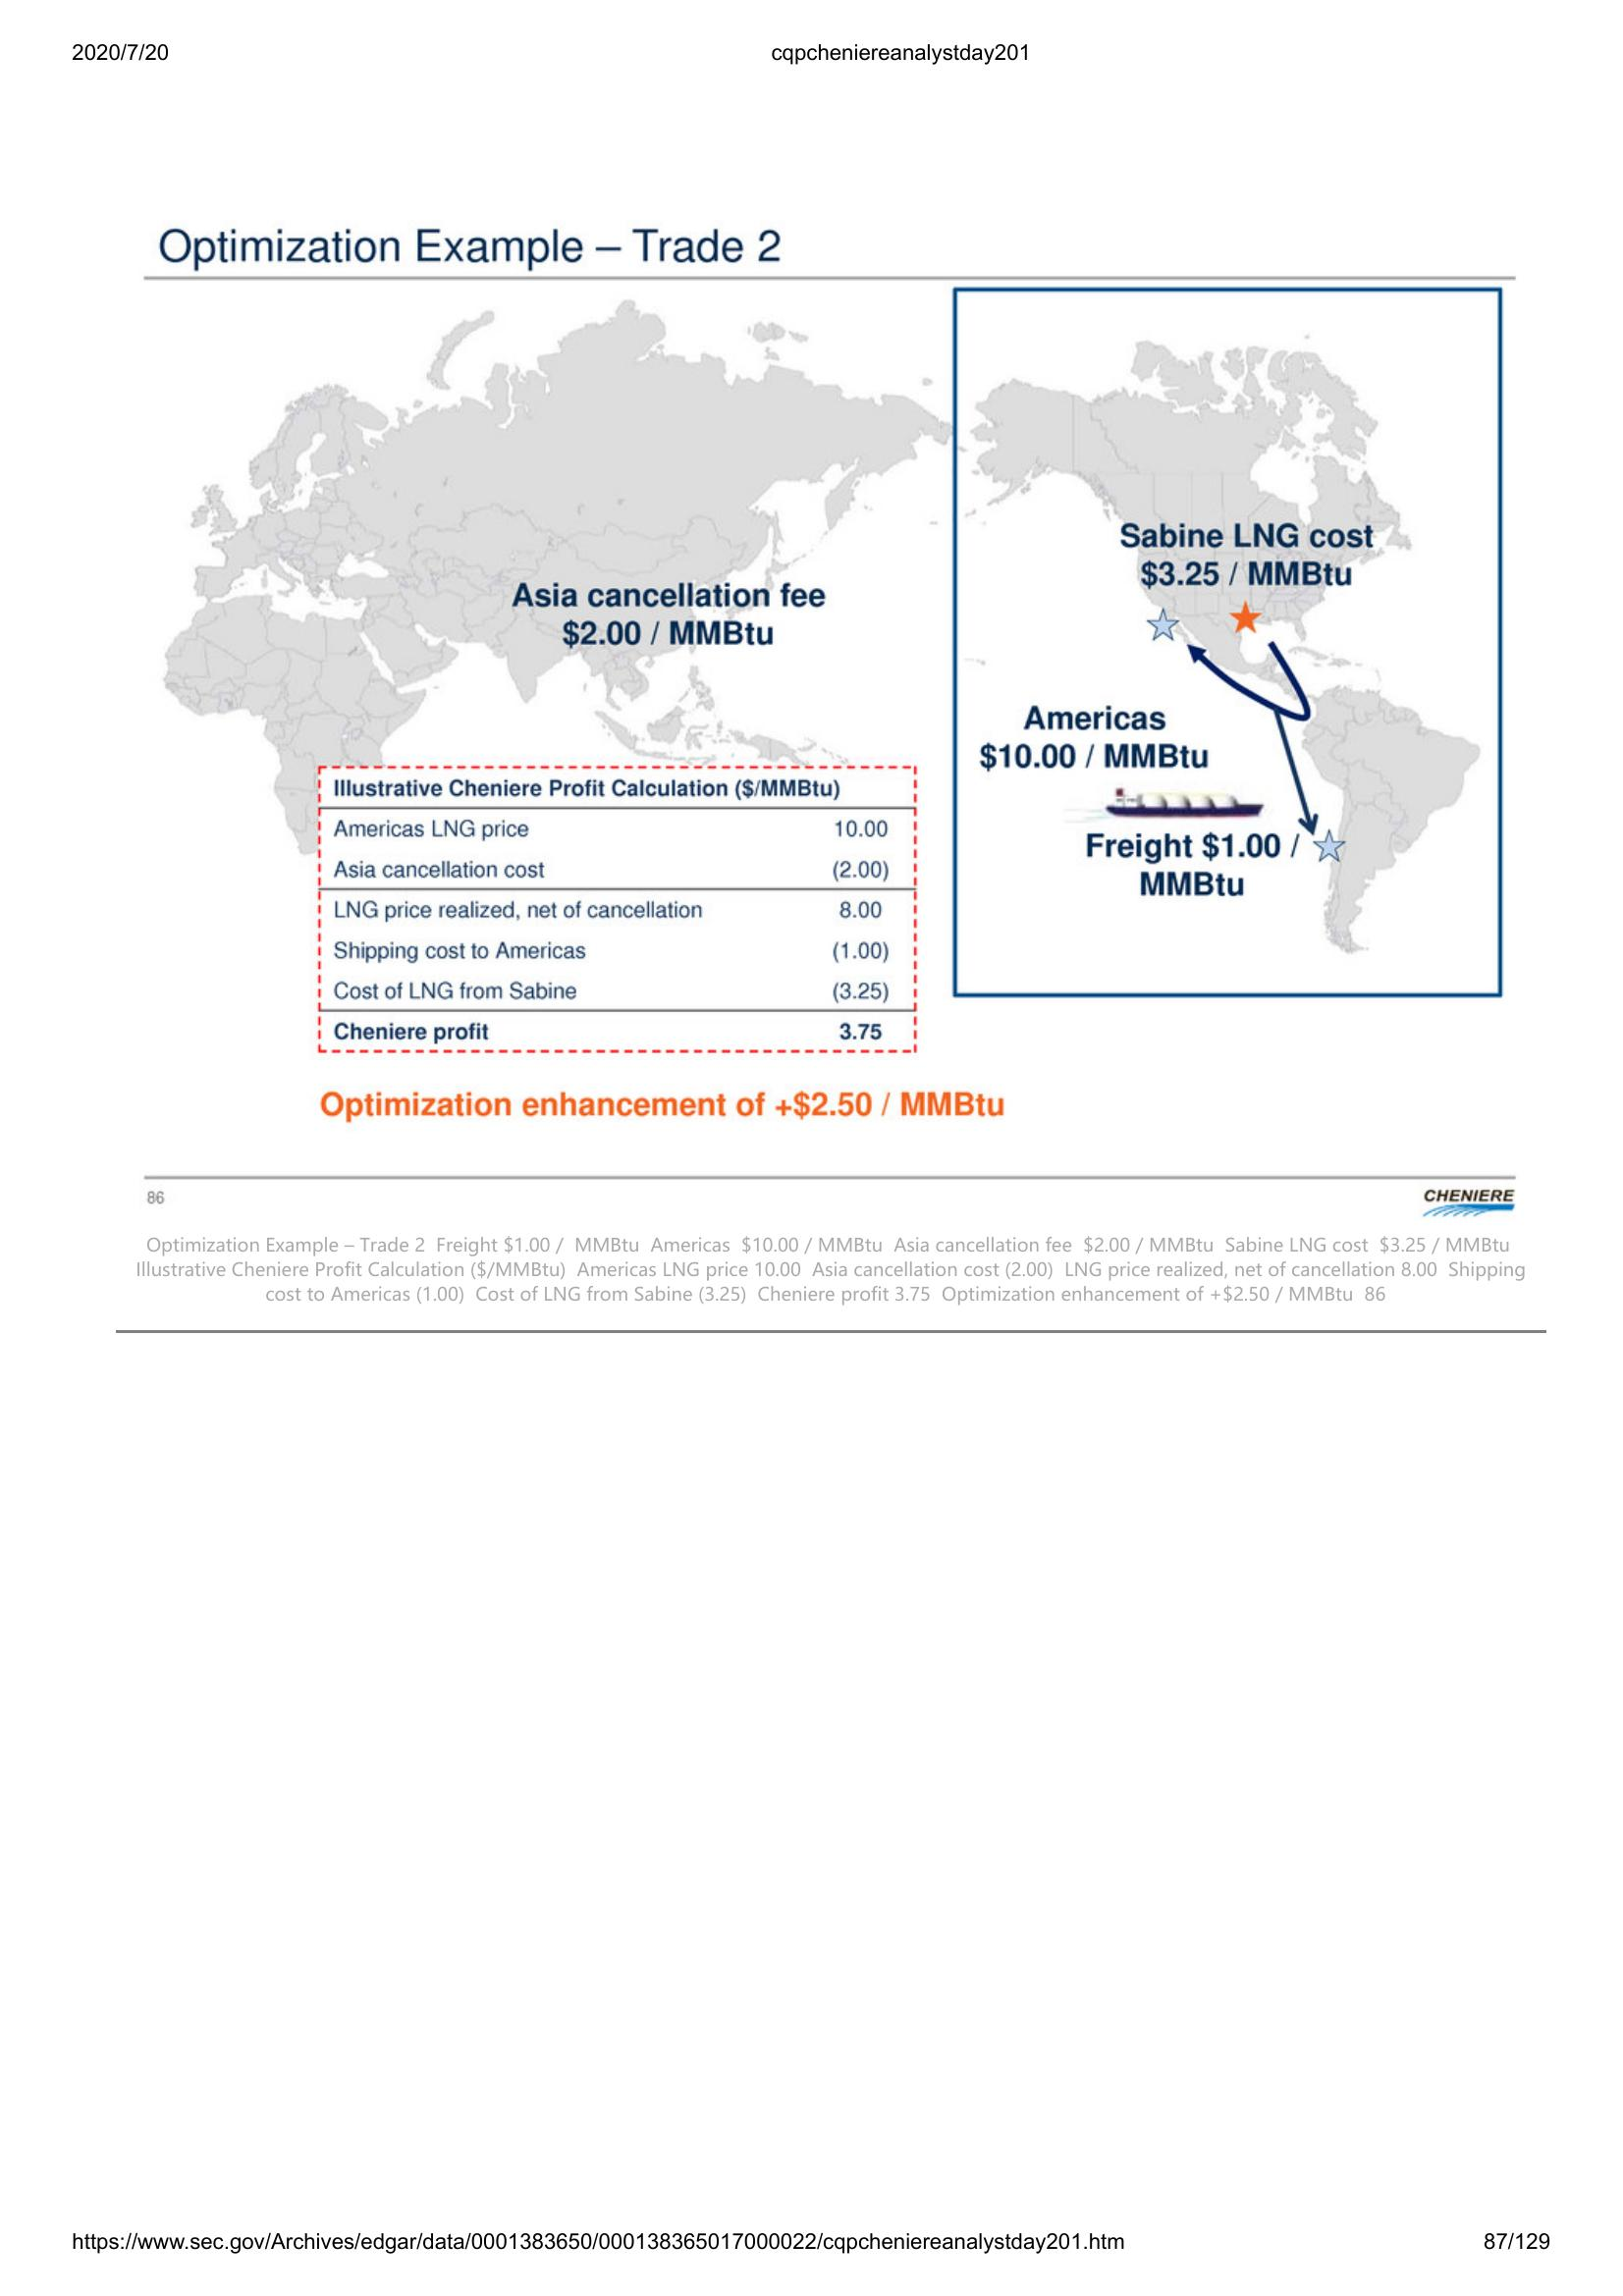table: (311, 760, 929, 1062)
